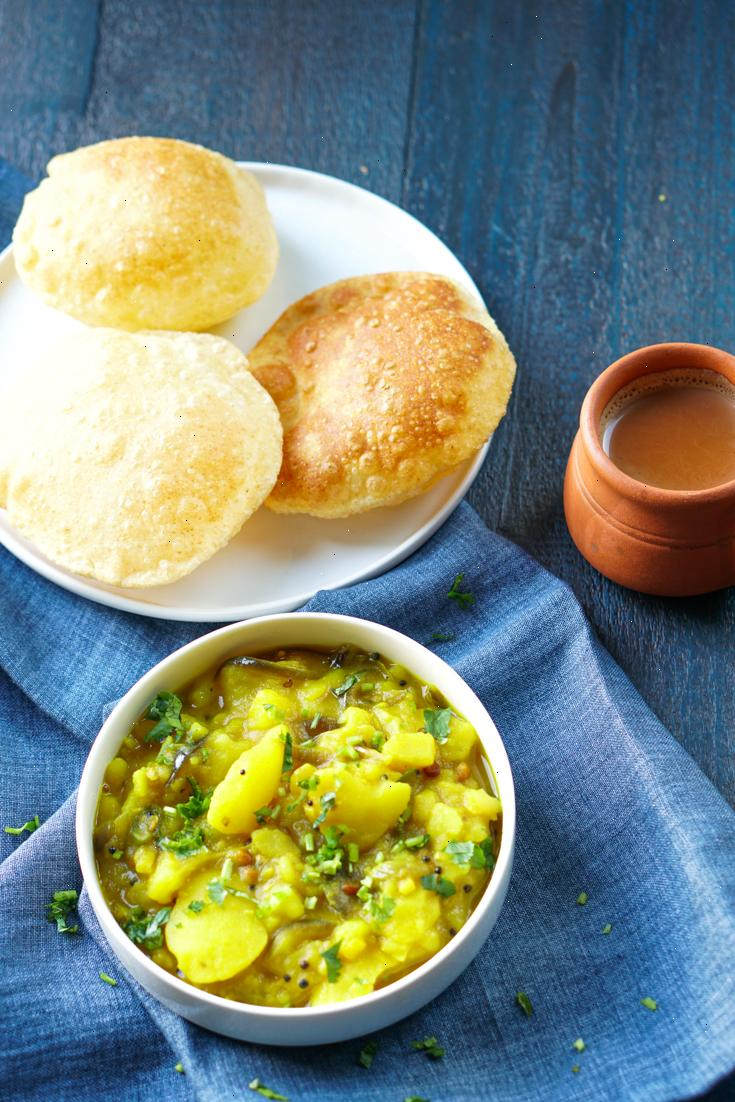puri: (0, 118, 508, 600)
